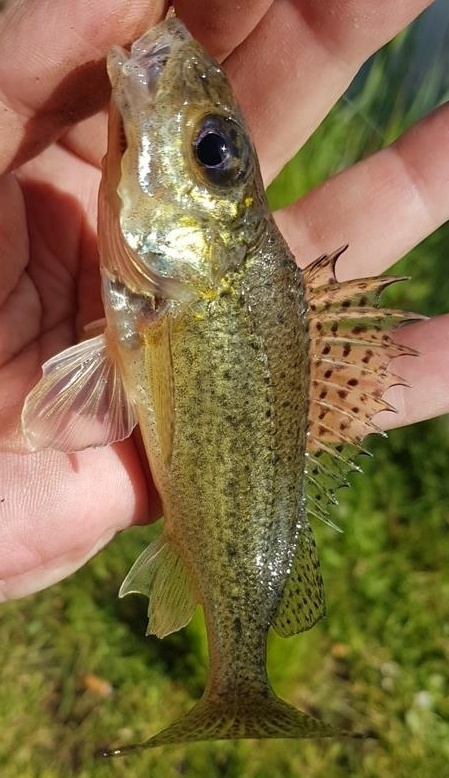Gymnocephalus cernuus: (20, 20, 429, 758)
